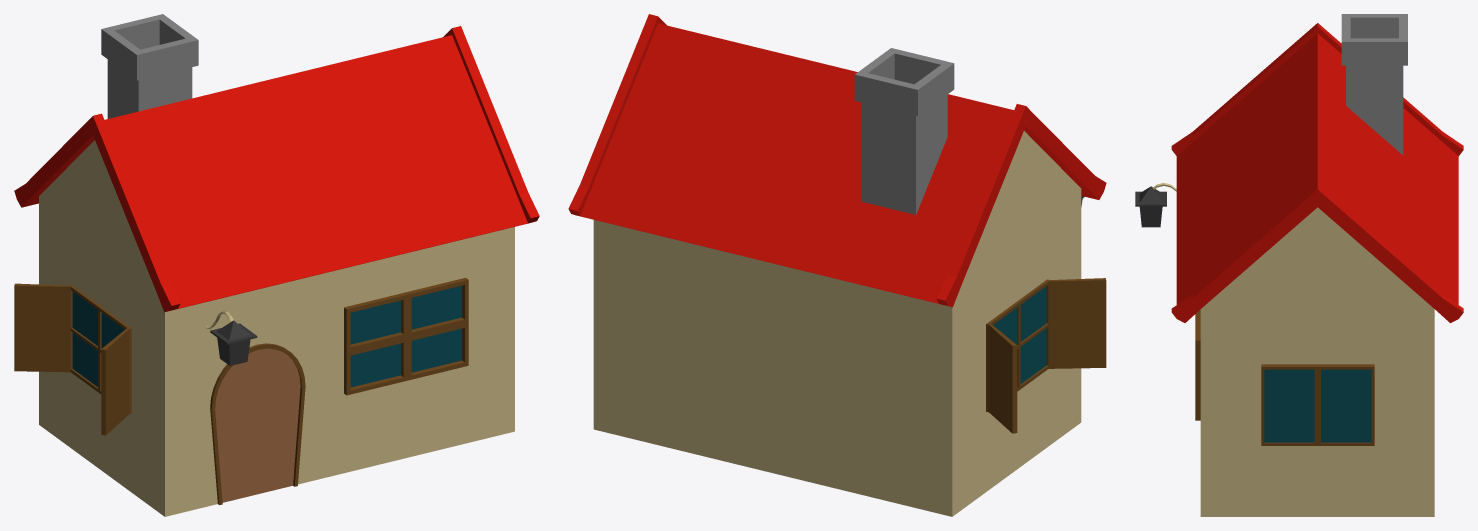
Rendered from Home.fbx.
The picture shows the model from 3 angles, left to right: view 1: azimuth 30°, elevation 25°; view 2: azimuth 150°, elevation 25°; view 3: azimuth 270°, elevation 25°; orthographic projection. The views are drawn at different scales.
Visible parts, largest first — view 1: 立方体; view 2: 立方体; view 3: 立方体.
Boxes of the visible parts, x1,y1,x2,y2 form: 立方体: [14, 14, 539, 516]; 立方体: [568, 14, 1106, 516]; 立方体: [1135, 14, 1463, 516].
Size of the model in its own units: 199 by 186 by 151.
